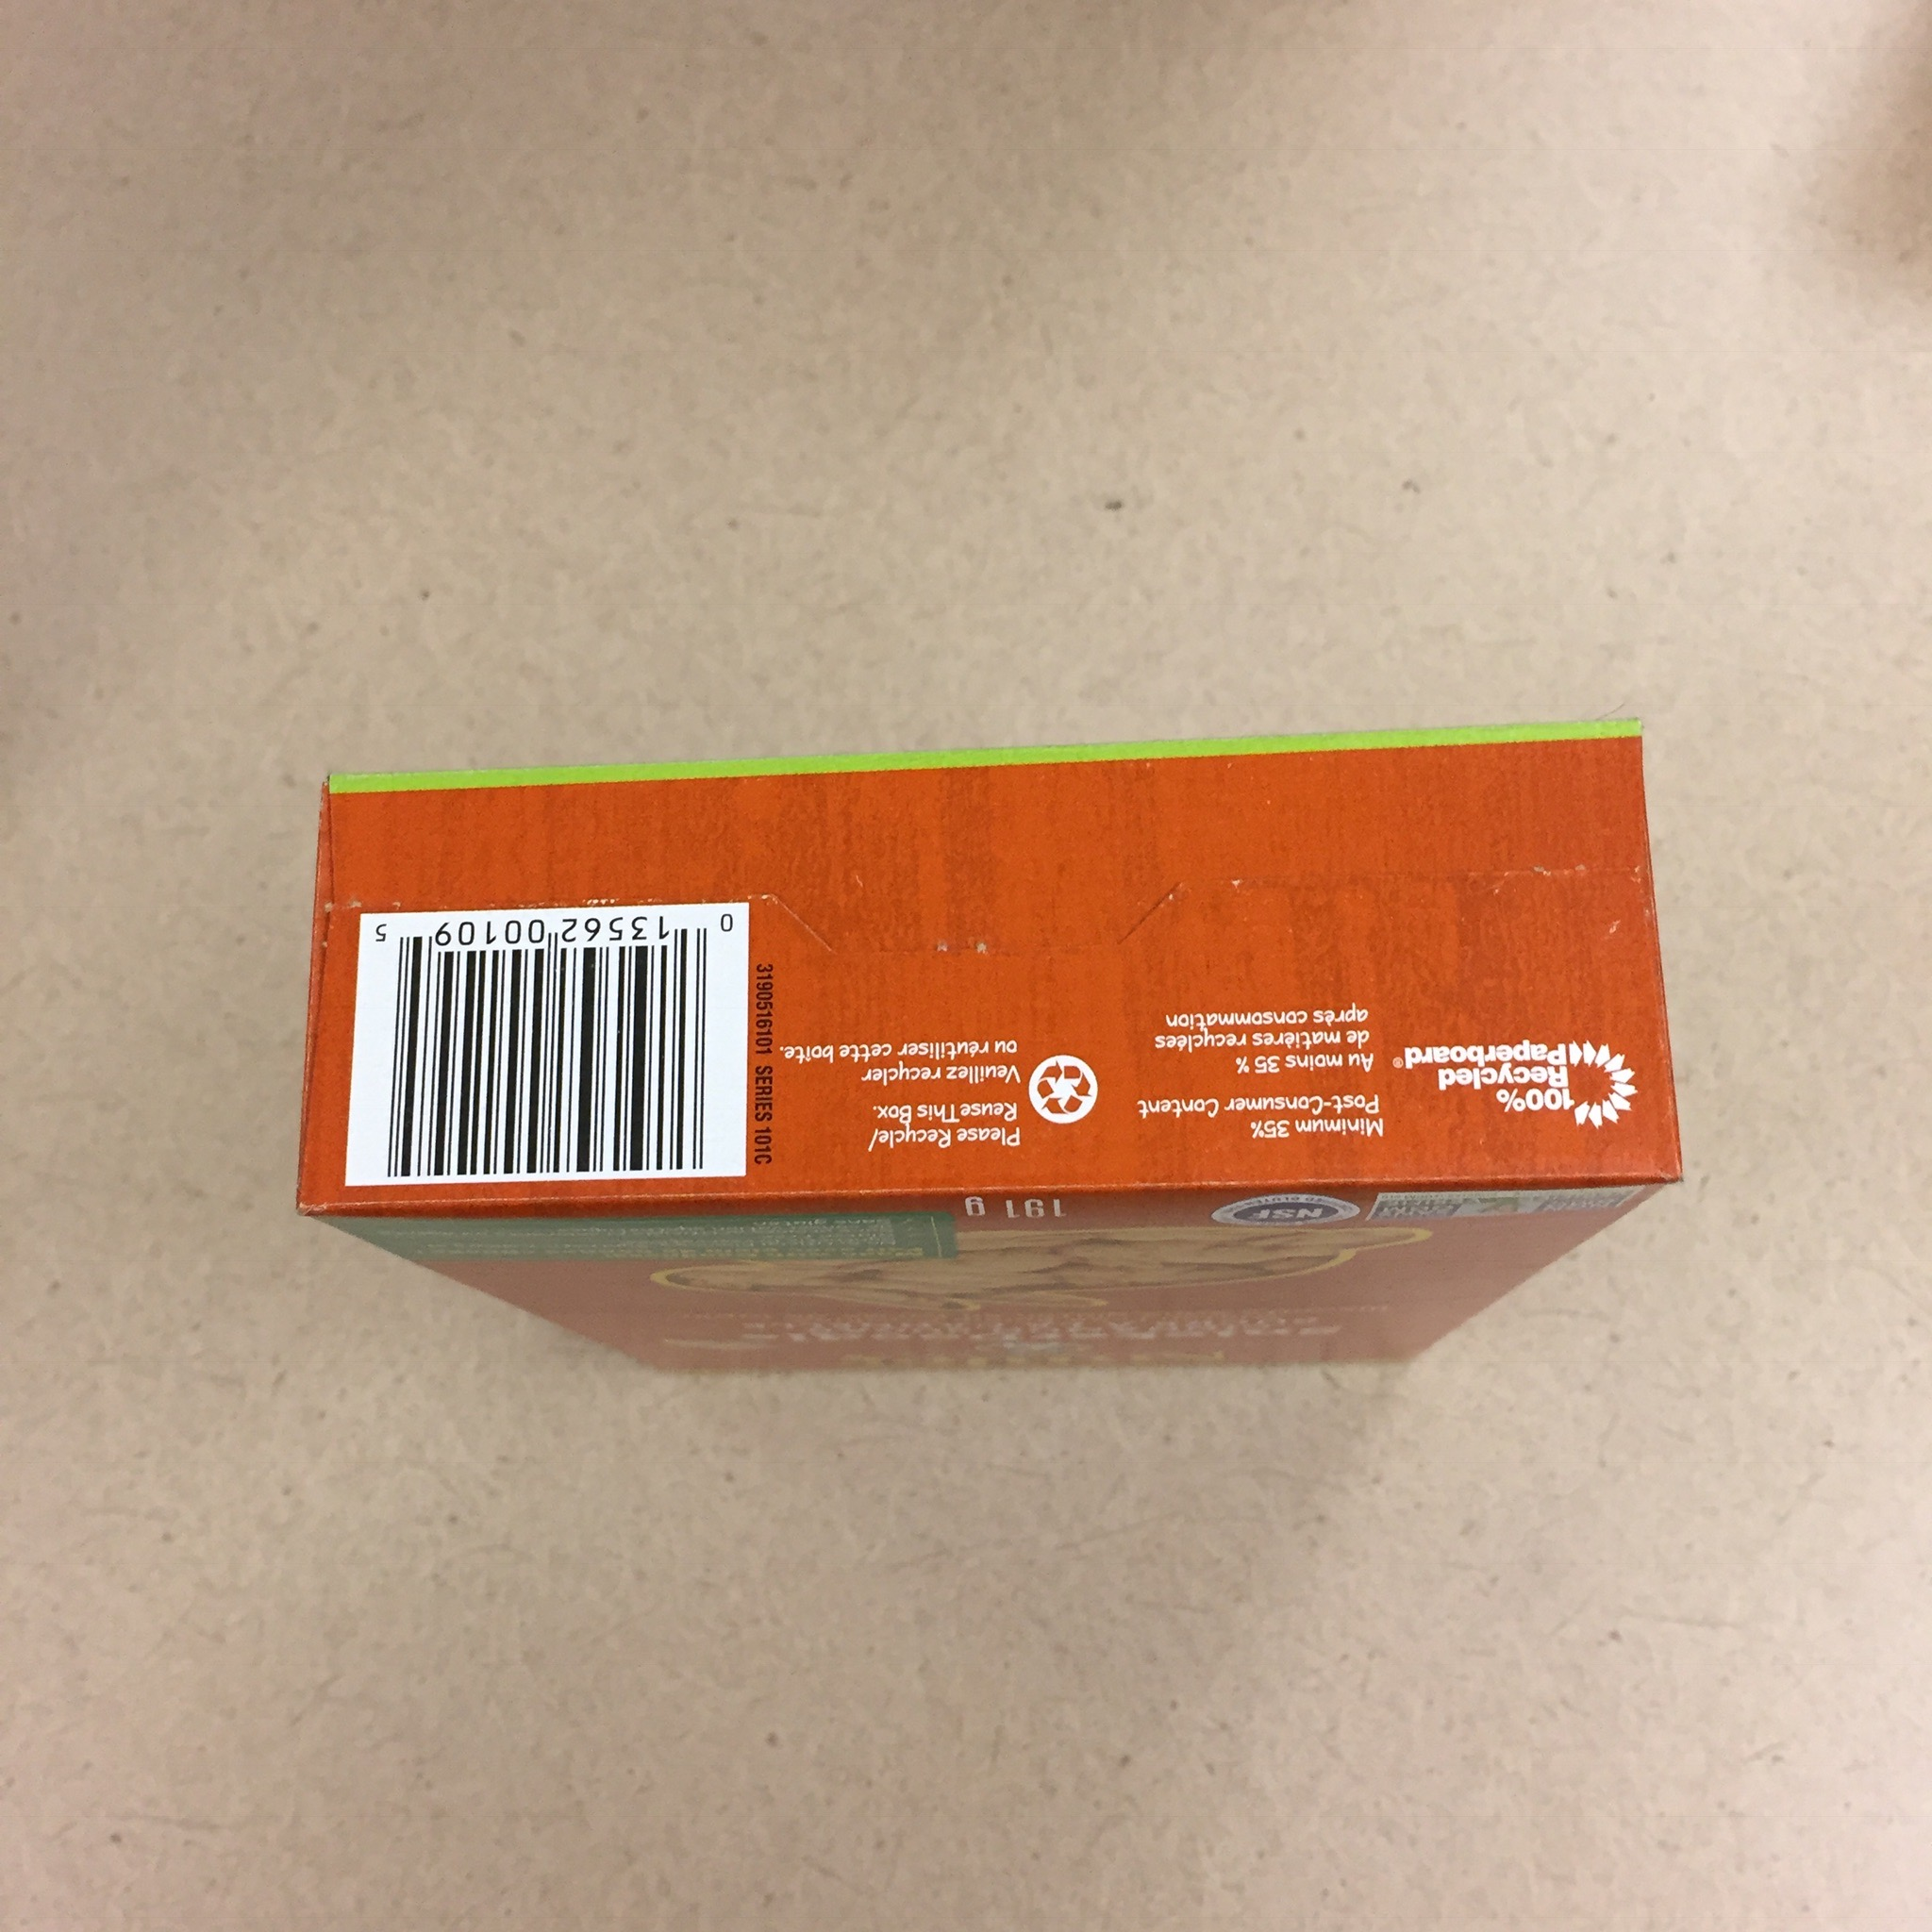annies_snickerdoodle_cinnamon_sugar: (290, 711, 1693, 1384)
